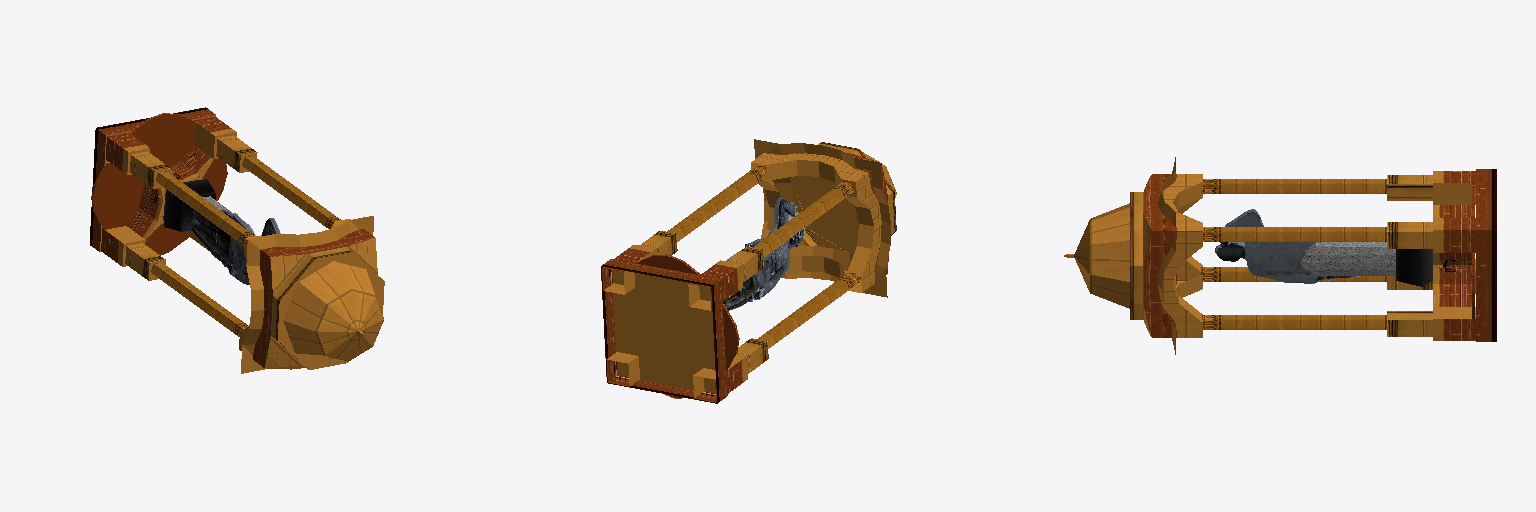
3 renders of one model, left to right at view 1: azimuth 30°, elevation 25°; view 2: azimuth 150°, elevation 25°; view 3: azimuth 270°, elevation 25°, orthographic.
Visible parts, largest first — view 1: Rectangle001; view 2: Rectangle001; view 3: Rectangle001.
Boxes of the visible parts, <box> form: Rectangle001: <box>90,107,384,373</box>; Rectangle001: <box>601,139,896,403</box>; Rectangle001: <box>1064,157,1496,354</box>.
Bounding box in the file's own units: 7.85 × 7.85 × 21.85.
1 materials, 1 textured.